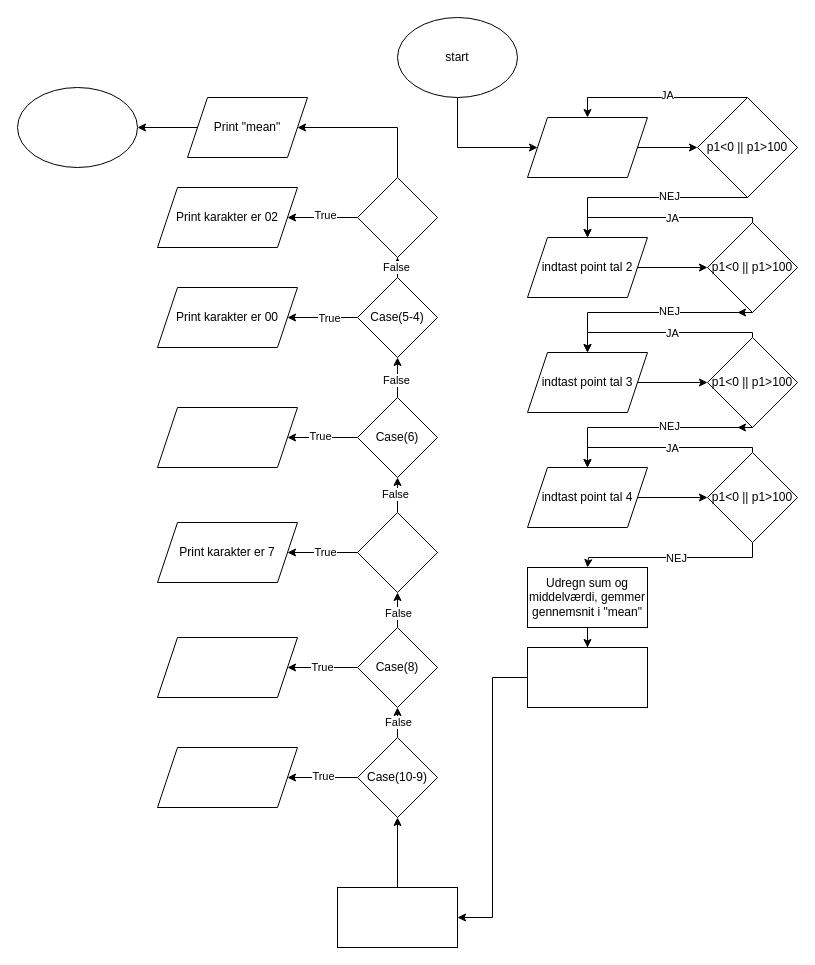
Image size: 815x965. Some labels were removed from this diagram. The shapes that lost their labels are listed below. From the top down, each one's centre as x and y in pixels, then its label:
At pixel 77 127: "Slut".
At pixel 587 147: "indtast point tal 1".
At pixel 397 217: "default".
At pixel 227 437: "Print karakter er 4".
At pixel 397 552: "Case(7)".
At pixel 227 667: "Print karakter er 10".
At pixel 587 677: "Deler middelværdi med 10, og gemmer i variabel karakter".
At pixel 227 777: "Print karakter er 12".
At pixel 397 917: "Switch(karakter)".
